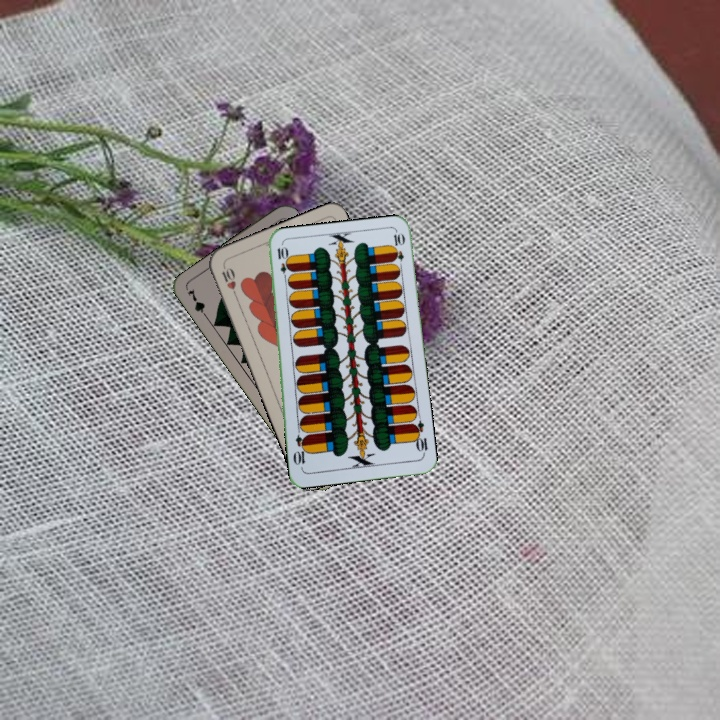E10: (408, 417, 430, 458), (273, 243, 290, 283)
G7: (183, 285, 211, 322)
H10: (217, 261, 240, 301)
